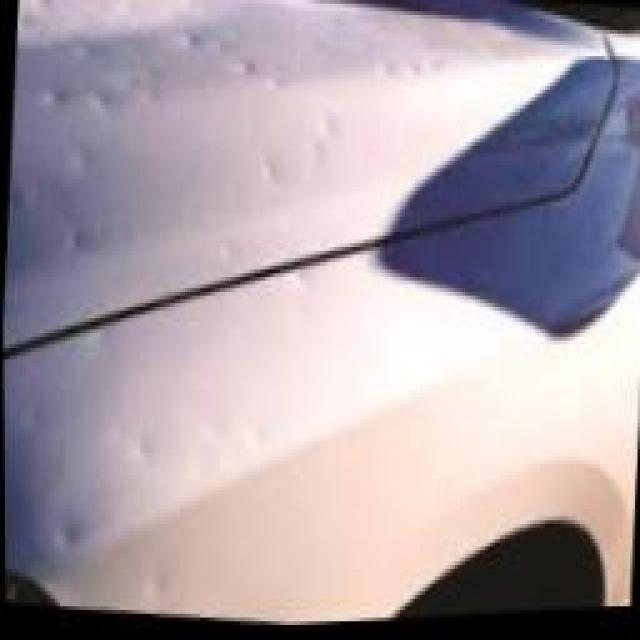rapairable: (37, 22, 569, 214), (26, 400, 289, 570)
